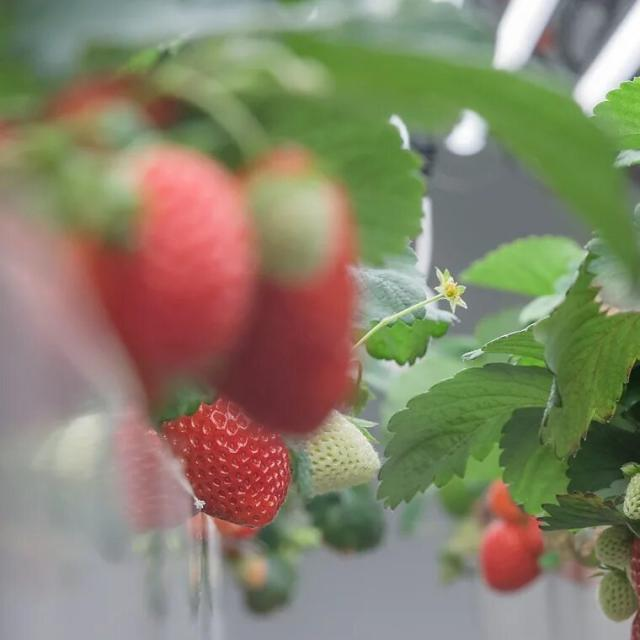Ripe Strawberry: (222, 176, 358, 431), (100, 154, 248, 363), (171, 399, 290, 524), (482, 520, 541, 592), (487, 479, 533, 523)
